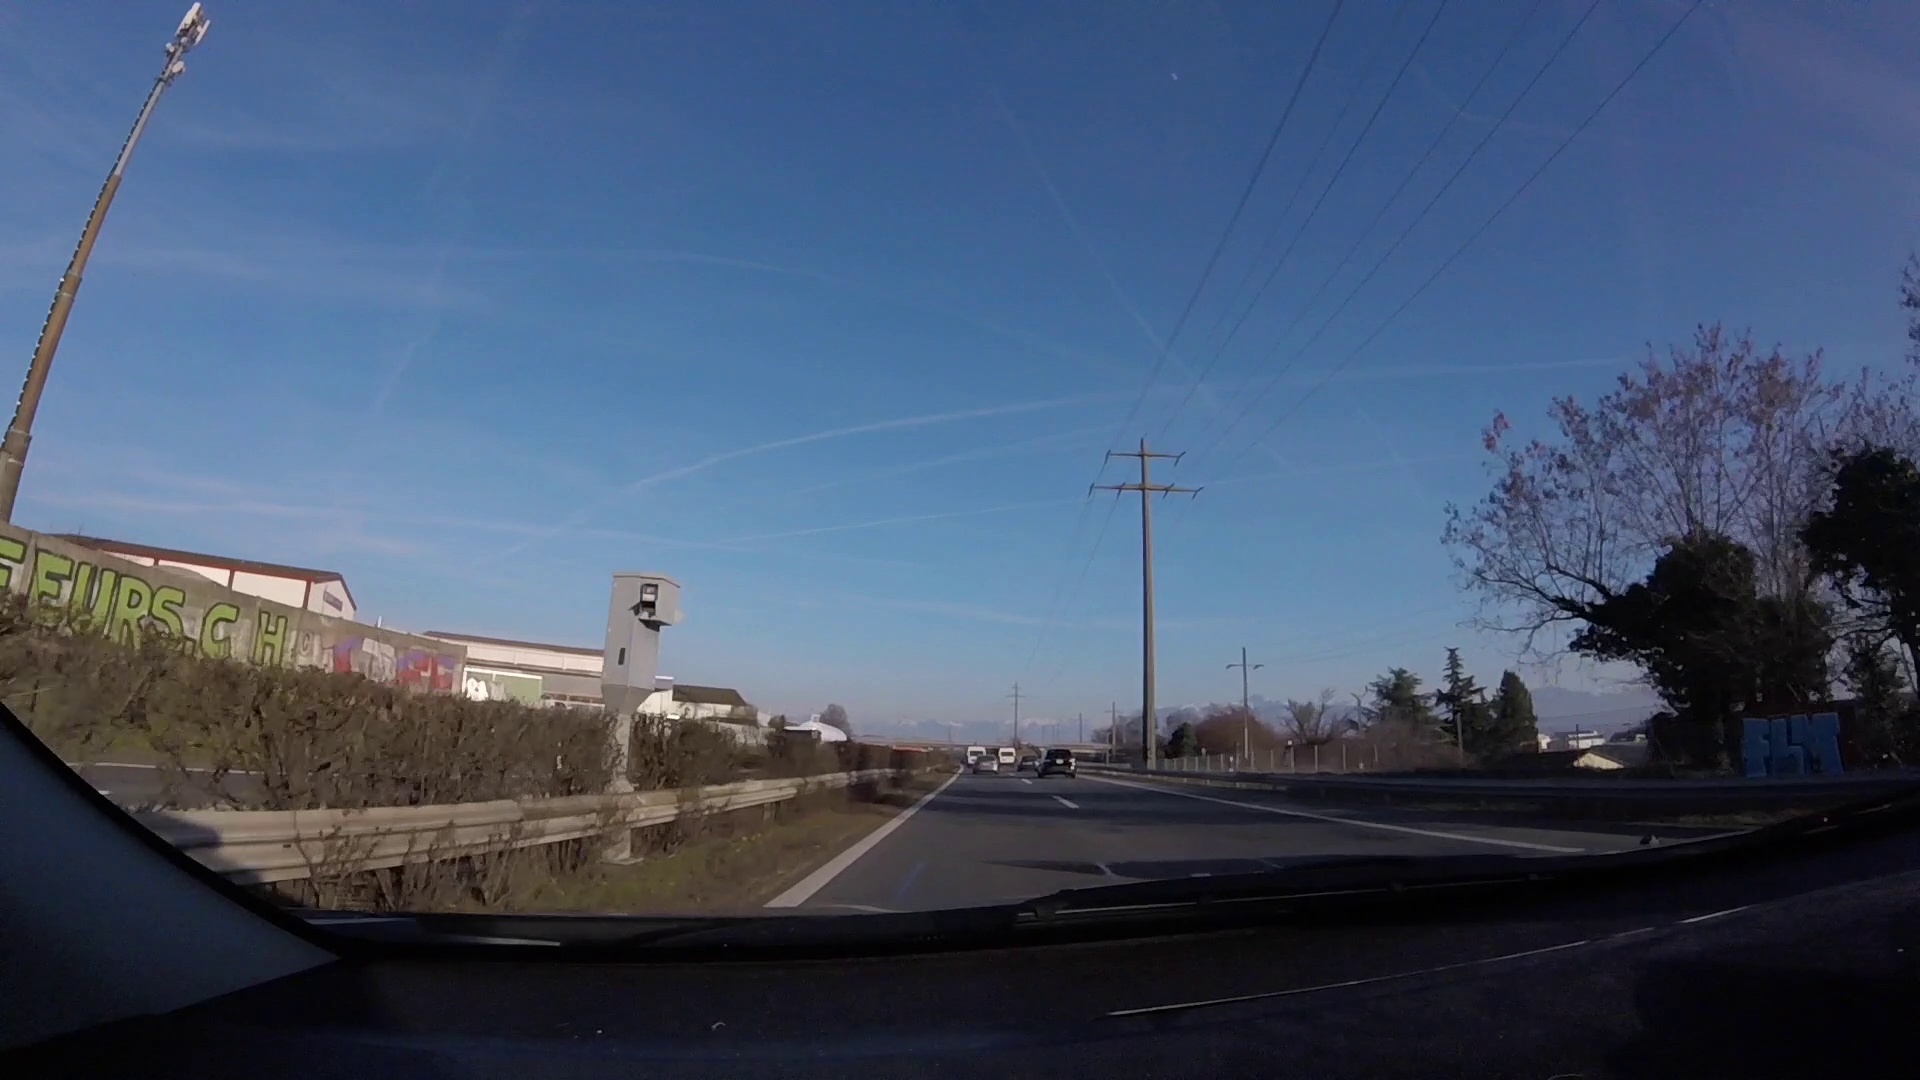radar: (601, 568, 687, 738)
